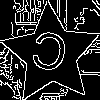C: (26, 29, 71, 83)
